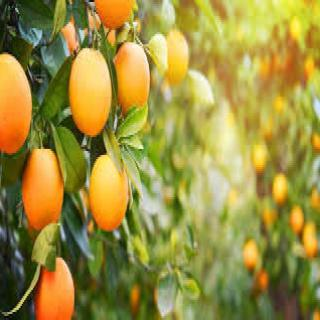orange: (62, 42, 118, 146), (20, 138, 72, 234), (85, 146, 134, 244), (0, 36, 34, 169), (32, 244, 82, 320)
